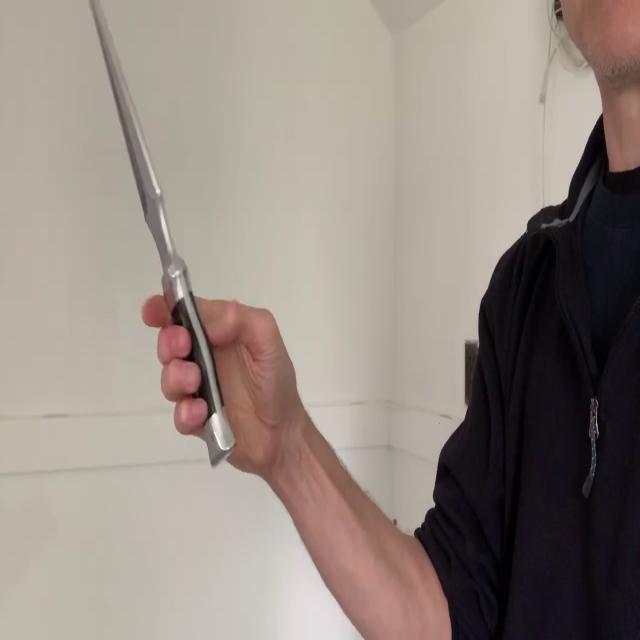Knife_Handle: (88, 0, 315, 479)
